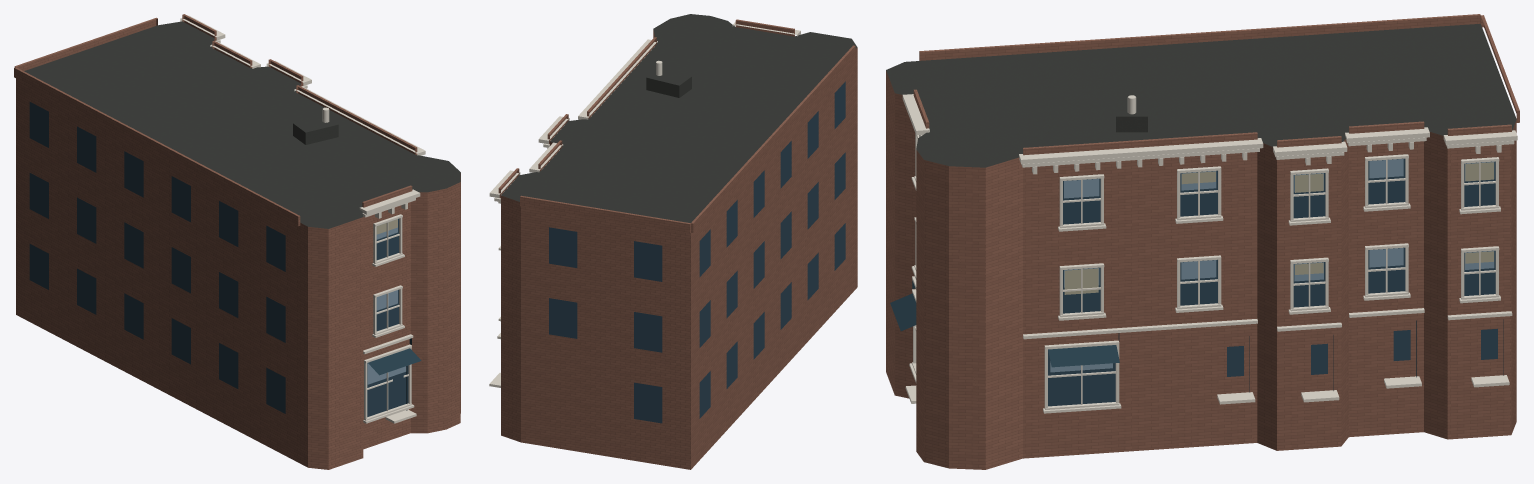
The picture shows the model from 3 angles, left to right: view 1: azimuth 30°, elevation 25°; view 2: azimuth 150°, elevation 25°; view 3: azimuth 270°, elevation 25°; orthographic projection. The views are drawn at different scales.
Visible parts, largest first — view 1: Footprint 0 / surface 2, Footprint 0 / surface 1, Inset glazing, Facade bay volumes, Cornices and window frames, Storefronts and doors, Sky reflection panels; view 2: Footprint 0 / surface 2, Footprint 0 / surface 1, Inset glazing, Facade bay volumes, Cornices and window frames, Inferred rooftop service enclosure / surface 6, Inferred rooftop service enclosure / surface 3; view 3: Footprint 0 / surface 2, Footprint 0 / surface 1, Cornices and window frames, Inset glazing, Facade bay volumes, Sky reflection panels, Interior blind variation, Storefronts and doors.
Part boxes in pixels (bbox=[...]): Footprint 0 / surface 2: bbox=[16, 39, 460, 469]; Footprint 0 / surface 1: bbox=[24, 21, 460, 228]; Inset glazing: bbox=[29, 102, 408, 416]; Facade bay volumes: bbox=[14, 14, 417, 226]; Cornices and window frames: bbox=[180, 15, 425, 423]; Storefronts and doors: bbox=[368, 338, 421, 410]; Sky reflection panels: bbox=[367, 227, 406, 384]; Footprint 0 / surface 2: bbox=[501, 30, 857, 469]; Footprint 0 / surface 1: bbox=[501, 14, 857, 222]; Inset glazing: bbox=[549, 81, 845, 423]; Facade bay volumes: bbox=[498, 19, 855, 233]; Cornices and window frames: bbox=[489, 22, 800, 387]; Inferred rooftop service enclosure / surface 6: bbox=[646, 77, 679, 97]; Inferred rooftop service enclosure / surface 3: bbox=[647, 69, 691, 85]; Footprint 0 / surface 2: bbox=[886, 70, 1516, 469]; Footprint 0 / surface 1: bbox=[886, 23, 1516, 167]; Cornices and window frames: bbox=[902, 94, 1517, 413]; Inset glazing: bbox=[1048, 158, 1497, 406]; Facade bay volumes: bbox=[913, 14, 1519, 155]; Sky reflection panels: bbox=[1050, 159, 1494, 372]; Interior blind variation: bbox=[1064, 162, 1493, 294]; Storefronts and doors: bbox=[890, 280, 1503, 392].
Size of the model in its own units: 12.93 by 13.84 by 23.84.
